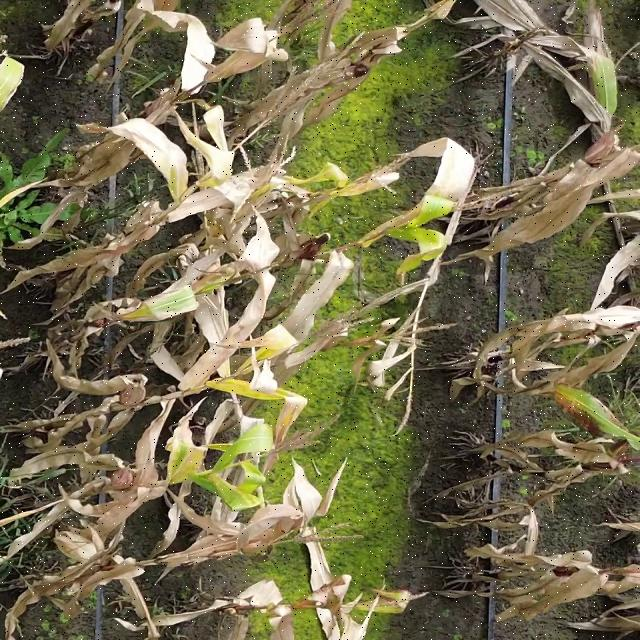northern-leaf-blight: (171, 420, 271, 513), (550, 384, 640, 470)
